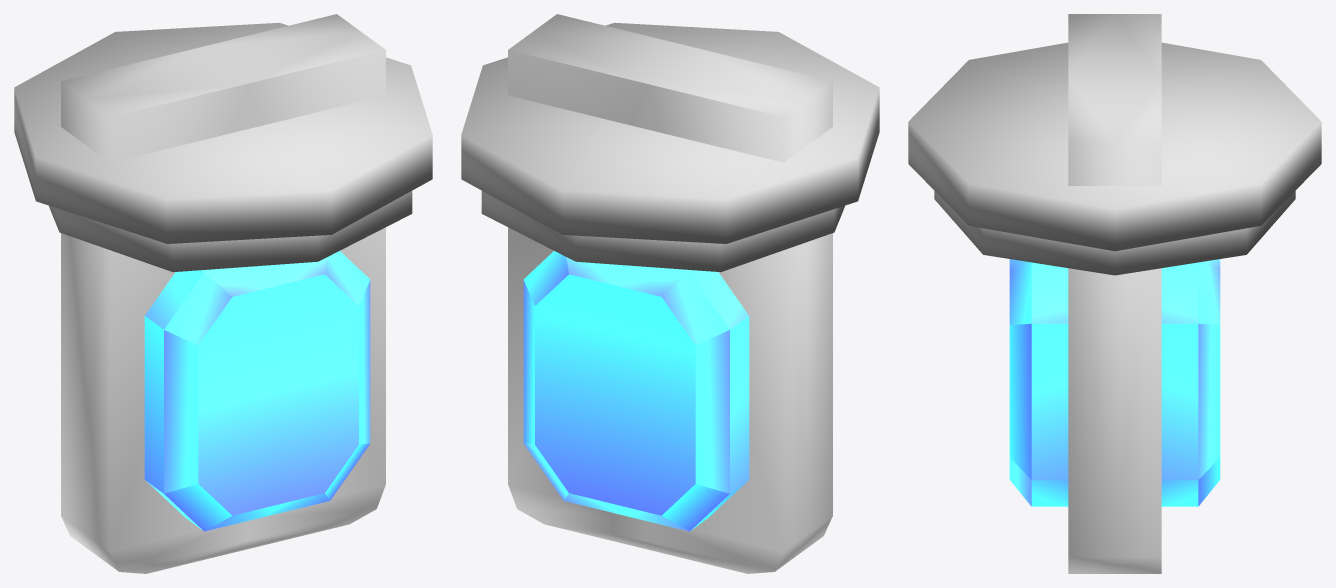
Rendered from stone_pommel_188.glb.
The picture shows the model from 3 angles, left to right: view 1: azimuth 30°, elevation 25°; view 2: azimuth 150°, elevation 25°; view 3: azimuth 270°, elevation 25°; orthographic projection. The views are drawn at different scales.
Parts seen in each view (by area): view 1: stone_pommel.188; view 2: stone_pommel.188; view 3: stone_pommel.188.
Part boxes in pixels (x1,y1,x2,y2): stone_pommel.188: (14, 14, 432, 573); stone_pommel.188: (461, 14, 879, 573); stone_pommel.188: (908, 14, 1321, 573).
Bounding box in the file's own units: 1.83 × 2.17 × 1.83.
Materials: 1 (1 with a texture image).
